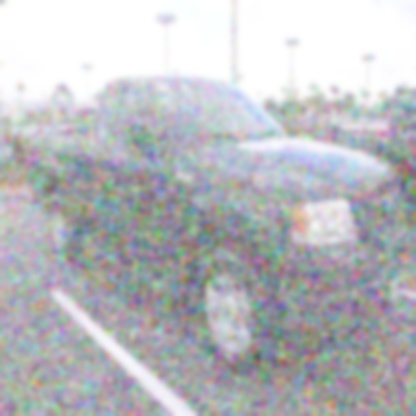Vehicle: (28, 74, 410, 367)
